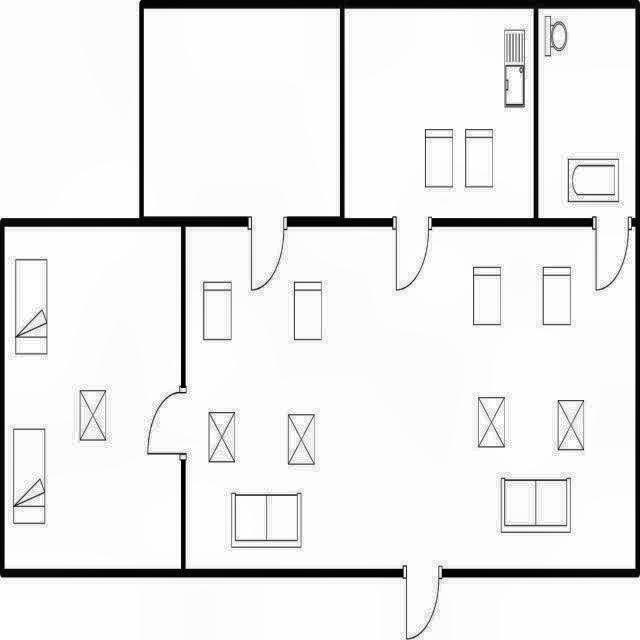room: (186, 227, 635, 569), (5, 227, 181, 569), (144, 9, 340, 217), (345, 9, 534, 218), (538, 9, 635, 218)
